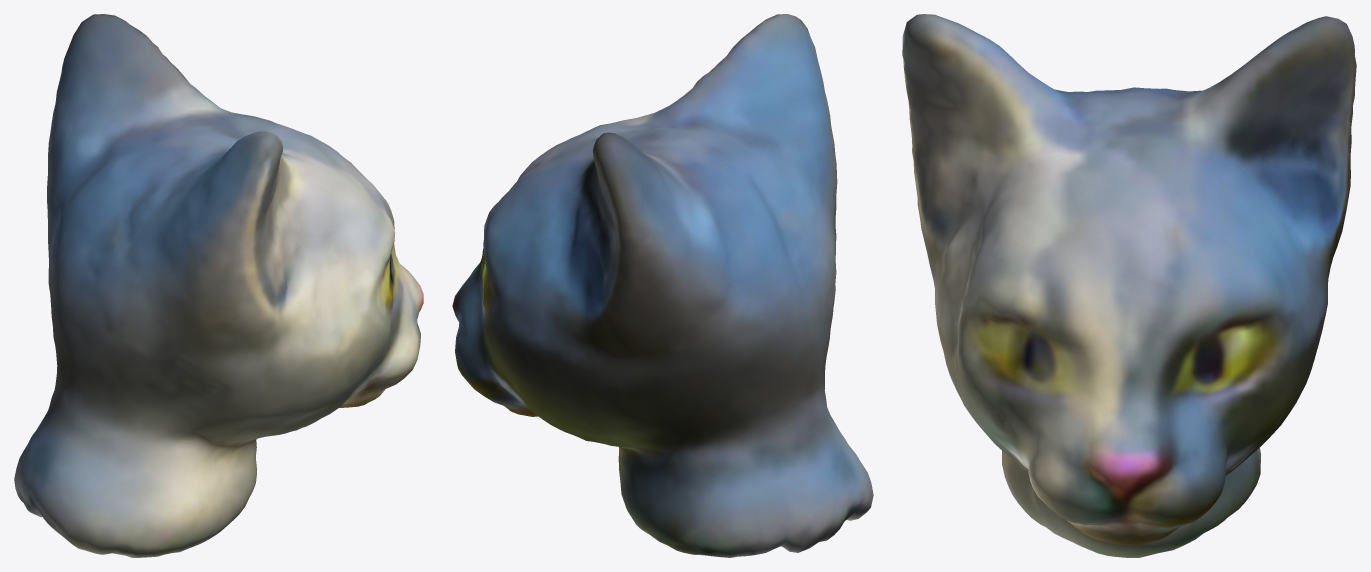
File: Create_cat_with_Symmetrical_face_with_deep_set_eyes_a_well__0614154653_preview.obj
3 views of the same model, side by side, from view 1: azimuth 30°, elevation 25°; view 2: azimuth 150°, elevation 25°; view 3: azimuth 270°, elevation 25° (orthographic). The views are drawn at different scales.
Parts seen in each view (by area): view 1: Mesh1; view 2: Mesh1; view 3: Mesh1.
Boxes of the visible parts, bbox=[...] form: Mesh1: bbox=[14, 14, 423, 557]; Mesh1: bbox=[452, 14, 873, 557]; Mesh1: bbox=[902, 14, 1356, 557].
Bounding box in the file's own units: 1.09 × 1.2 × 0.9301.
1 material, 1 textured.
